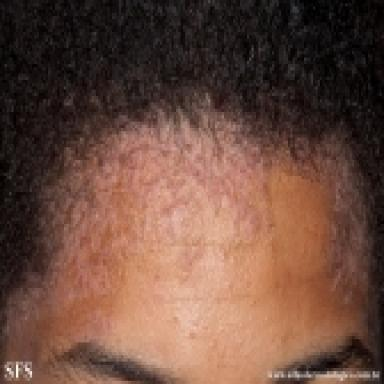Darier_s-Disease: (5, 122, 369, 359)
